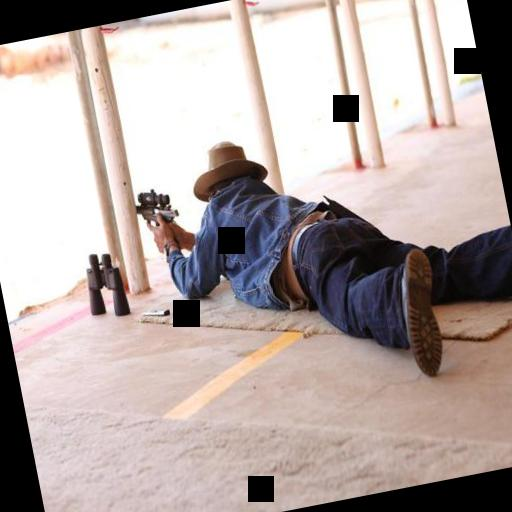Handgun: (118, 176, 184, 246)
